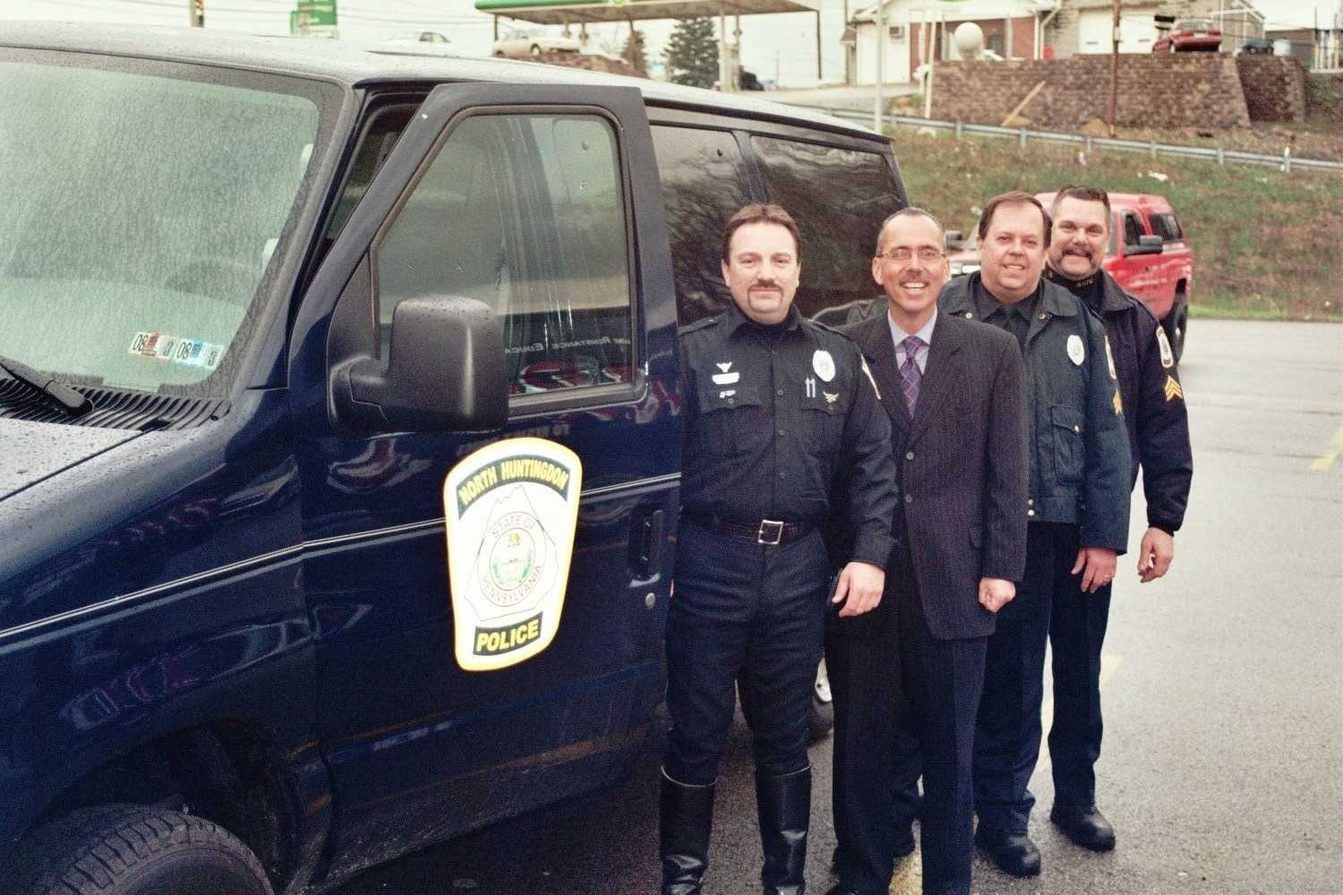Fire Truck: (0, 0, 1118, 770)
